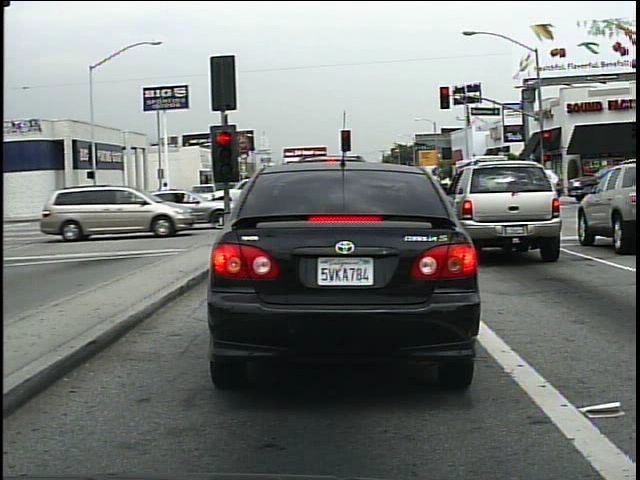person: (153, 178, 176, 217)
